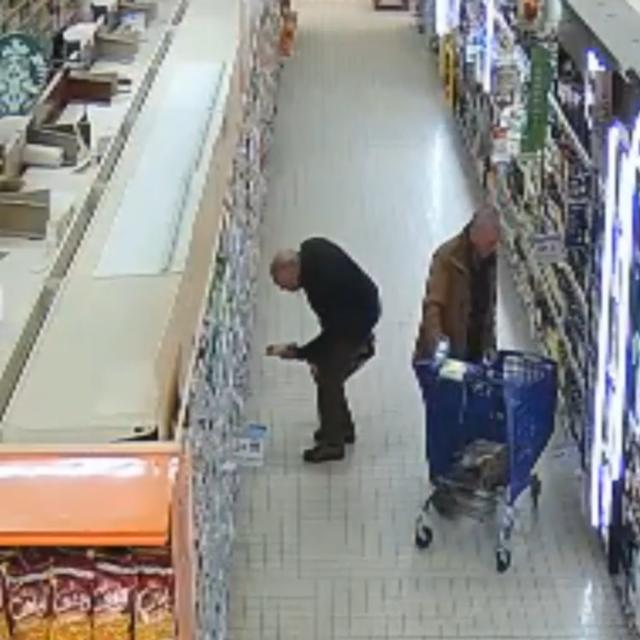article: (268, 341, 296, 356)
hands: (280, 344, 298, 359), (484, 348, 497, 363)
person: (268, 238, 381, 462), (414, 207, 499, 361)
